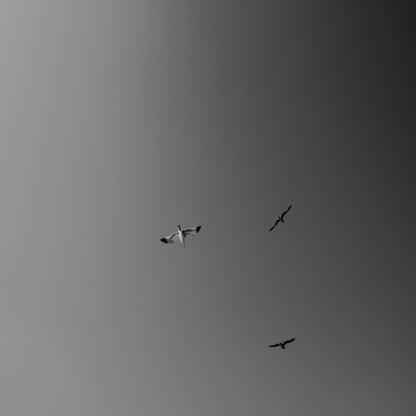bird: (160, 224, 202, 249), (269, 204, 292, 233), (268, 338, 296, 350)
